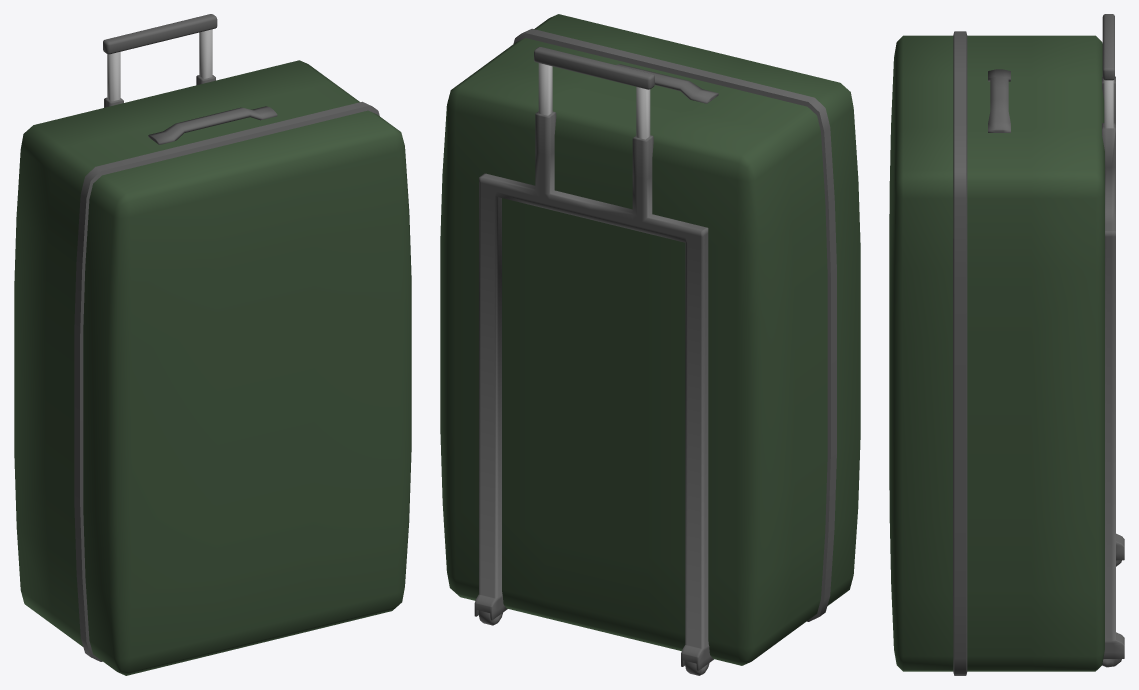
The model's file is Suitcase01.fbx.
The picture shows the model from 3 angles, left to right: view 1: azimuth 30°, elevation 25°; view 2: azimuth 150°, elevation 25°; view 3: azimuth 270°, elevation 25°; orthographic projection. The views are drawn at different scales.
Visible parts, largest first — view 1: Cube; view 2: Cube; view 3: Cube.
Boxes of the visible parts, <box> form: Cube: <box>14,14,411,675</box>; Cube: <box>440,14,860,675</box>; Cube: <box>889,14,1124,675</box>.
Bounding box in the file's own units: 50.9 × 87.22 × 32.32.
